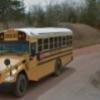buses: (0, 28, 74, 98)
